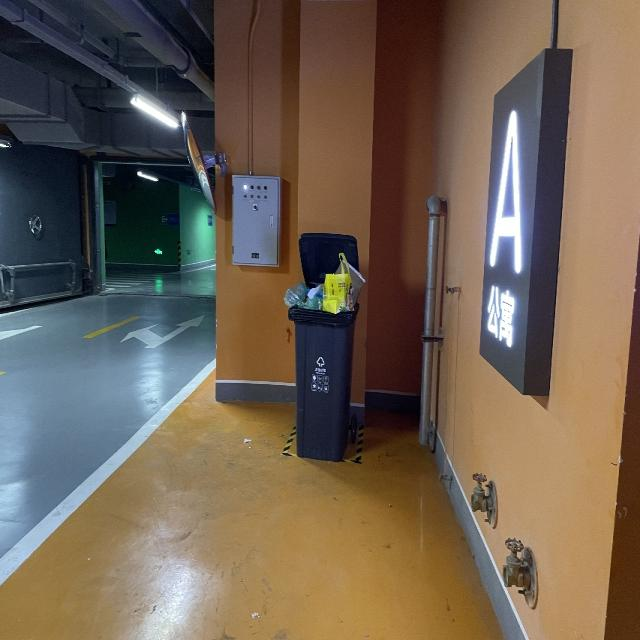overflow: (283, 232, 365, 461)
